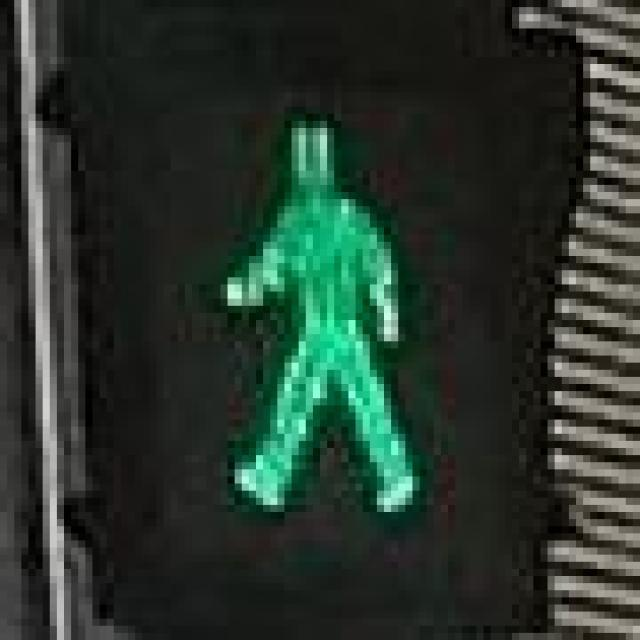geen-crossing: (199, 100, 434, 526)
